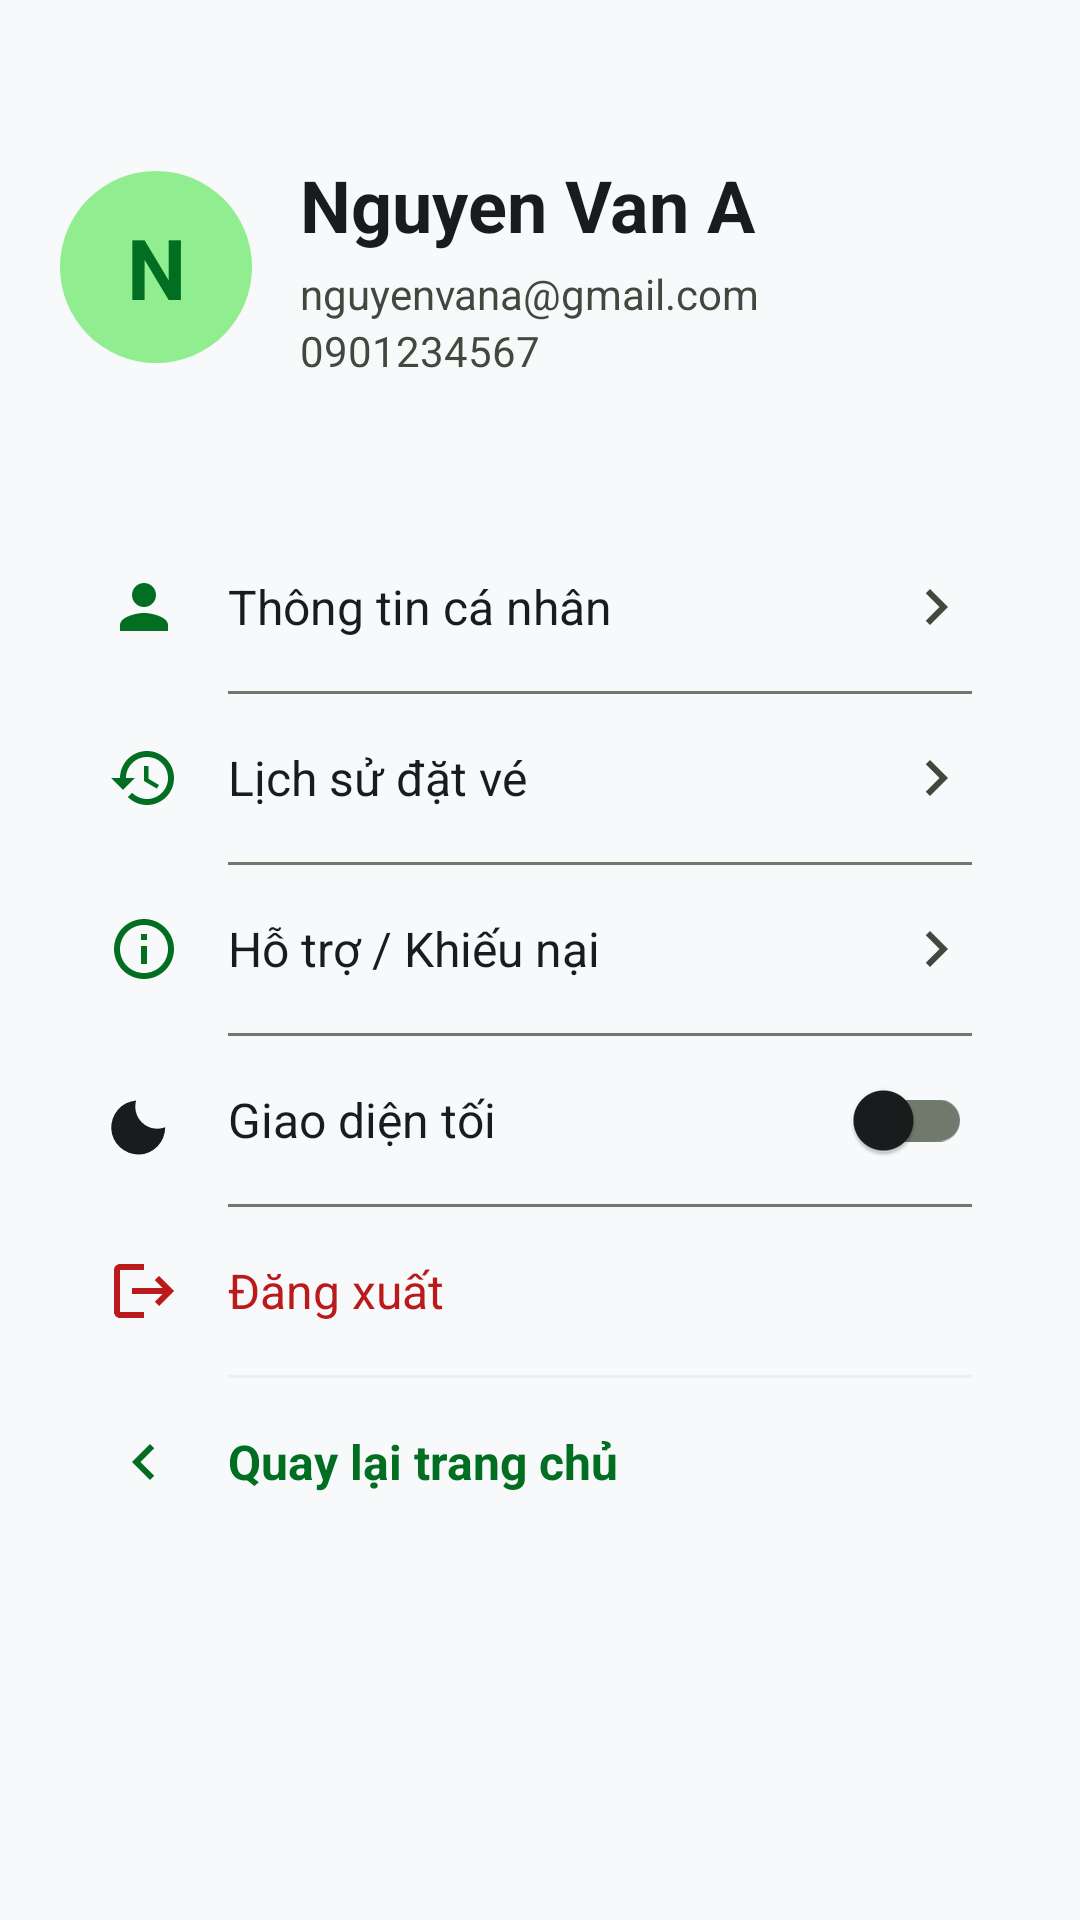

Point at icon controls on the screen. Image size 1080×1920, points as [x,y].
history: [142,778]
mode: [138,1127]
person: [144,607]
support: [144,949]
